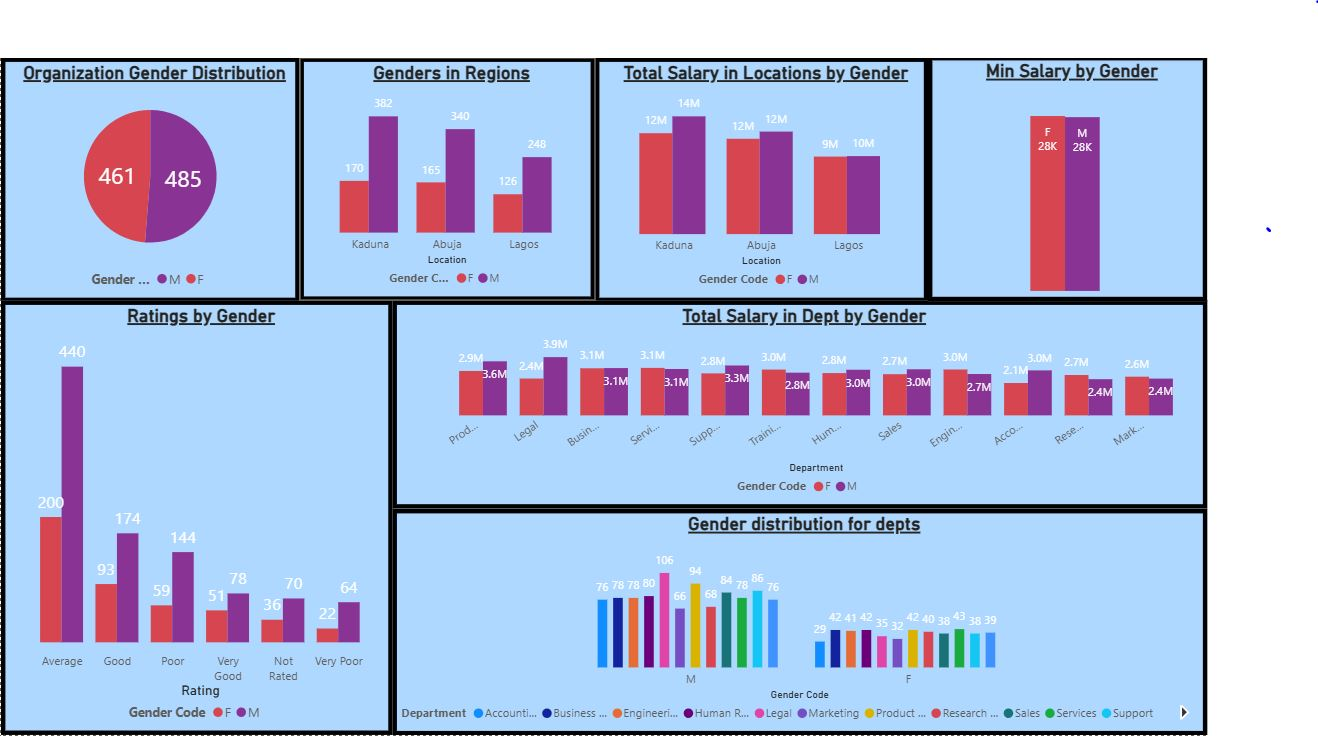

The page's visual inventory and layout, read from the dashboard file:
{"tool":"powerbi","page":{"name":"Page 1","canvas":[1280,720],"ordinal":0},"visuals":[{"type":"pieChart","title":"Organization Gender Distribution","fields":{"Category":["Palmora 1.Gender Code"],"Y":["CountNonNull(Palmora 1.Gender Code)"]},"box":[0,1.6,316.5,256.1],"z":0},{"type":"clusteredColumnChart","title":"Ratings by Gender","fields":{"Category":["Palmora 1.Rating"],"Y":["Sum(Palmora 1.Gender Code - Copy)"],"Series":["Palmora 1.Gender Code"]},"box":[0,259.2,415.2,460.8],"z":1000},{"type":"clusteredColumnChart","title":"Gender distribution for depts","fields":{"Category":["Palmora 1.Gender Code"],"Series":["Palmora 1.Department"],"Y":["Sum(Palmora 1.Gender Code - Copy)"]},"box":[415.2,480,864,240],"z":2000},{"type":"clusteredColumnChart","title":"Total Salary in Locations by Gender","fields":{"Category":["Palmora 1.Location"],"Y":["Sum(Palmora 1.Salary)"],"Series":["Palmora 1.Gender Code"]},"box":[629.9,1.6,353.1,256.1],"z":3000},{"type":"clusteredColumnChart","title":"Total Salary in Dept by Gender","fields":{"Category":["Palmora 1.Department"],"Y":["Sum(Palmora 1.Salary)"],"Series":["Palmora 1.Gender Code"]},"box":[415.2,259.2,864,220.8],"z":4000},{"type":"clusteredColumnChart","title":"Min Salary by Gender","fields":{"Y":["Min(Palmora 1.Salary)"],"Series":["Palmora 1.Gender Code"]},"box":[982.8,0,295.8,260.1],"z":8000},{"type":"clusteredColumnChart","title":"Genders in Regions","fields":{"Category":["Palmora 1.Location"],"Y":["Sum(Palmora 1.Gender Code - Copy)"],"Series":["Palmora 1.Gender Code"]},"box":[316.5,1.6,313.4,257.7],"z":9000}]}

Visuals, with their boxes in screenshot pixels (x1, y1, x2, y2), scaled from the page's 1280x720 canvas onto the 1318x736 screenshot:
"Organization Gender Distribution" pieChart: {"x1": 0, "y1": 2, "x2": 326, "y2": 263}
"Ratings by Gender" clusteredColumnChart: {"x1": 0, "y1": 265, "x2": 428, "y2": 735}
"Gender distribution for depts" clusteredColumnChart: {"x1": 428, "y1": 491, "x2": 1317, "y2": 735}
"Total Salary in Locations by Gender" clusteredColumnChart: {"x1": 649, "y1": 2, "x2": 1012, "y2": 263}
"Total Salary in Dept by Gender" clusteredColumnChart: {"x1": 428, "y1": 265, "x2": 1317, "y2": 491}
"Min Salary by Gender" clusteredColumnChart: {"x1": 1012, "y1": 0, "x2": 1317, "y2": 266}
"Genders in Regions" clusteredColumnChart: {"x1": 326, "y1": 2, "x2": 649, "y2": 265}
